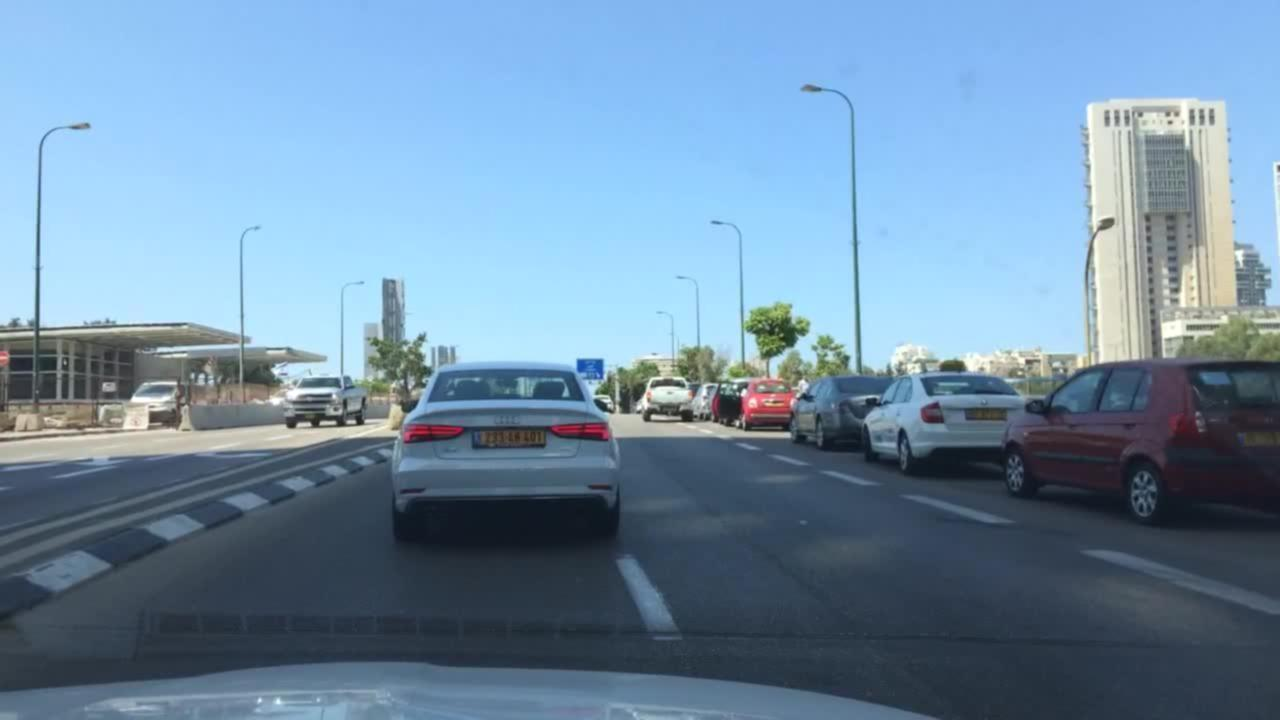Audi: (489, 406, 528, 427)
